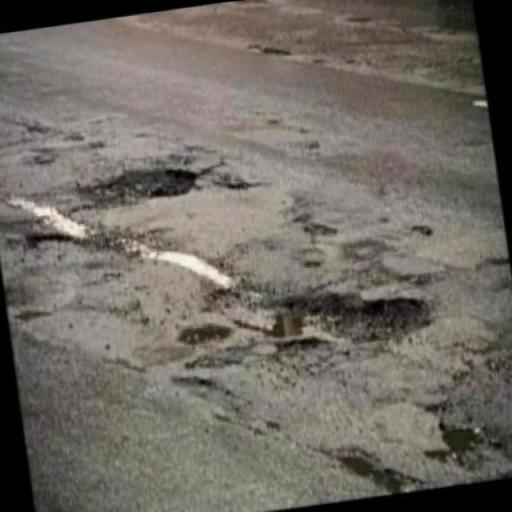pothole: (234, 293, 429, 341), (75, 168, 198, 209)
